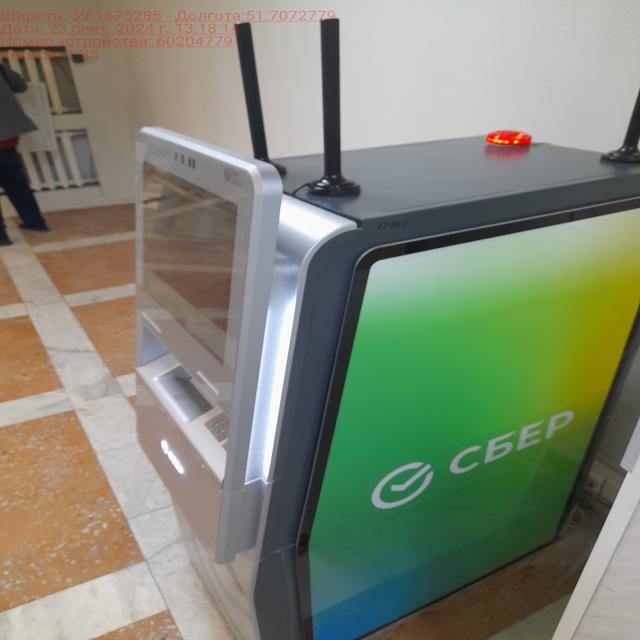bank: (115, 123, 640, 640)
